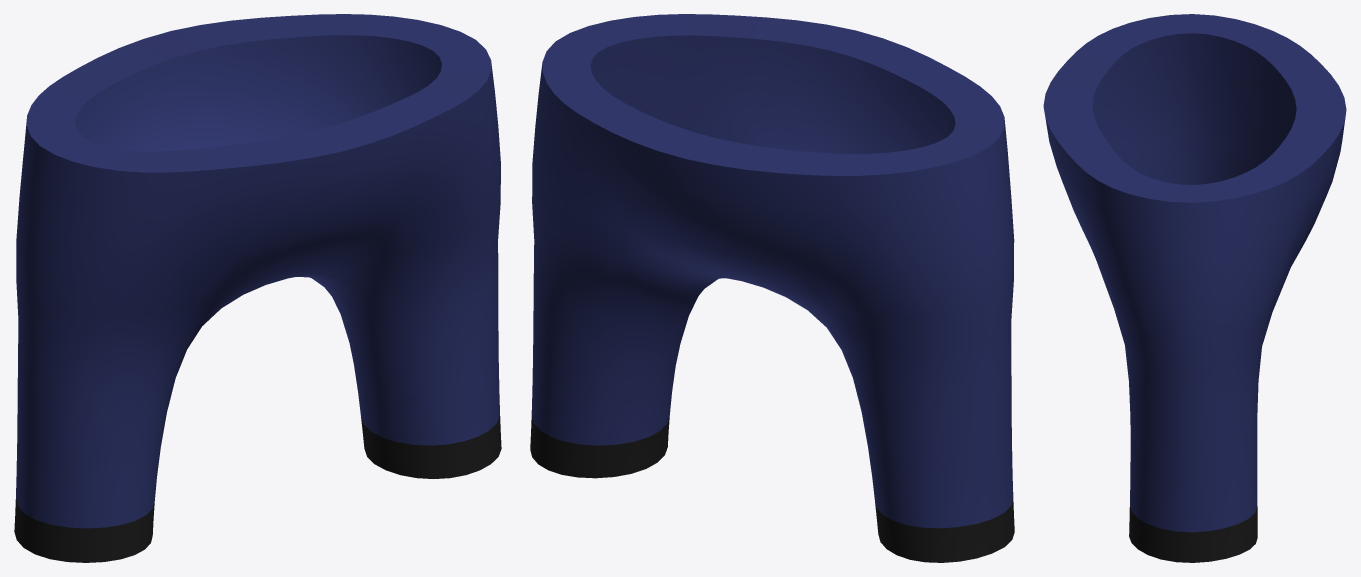
3 views of the same model, side by side, from view 1: azimuth 30°, elevation 25°; view 2: azimuth 150°, elevation 25°; view 3: azimuth 270°, elevation 25° (orthographic). The views are drawn at different scales.
Parts seen in each view (by area): view 1: 3警裤; view 2: 3警裤; view 3: 3警裤.
Boxes of the visible parts, left/top/right/bottom form: 3警裤: left=14, top=14, right=501, bottom=562; 3警裤: left=530, top=14, right=1014, bottom=562; 3警裤: left=1043, top=14, right=1346, bottom=562.
Bounding box in the file's own units: 0.617 × 0.5068 × 0.39.
